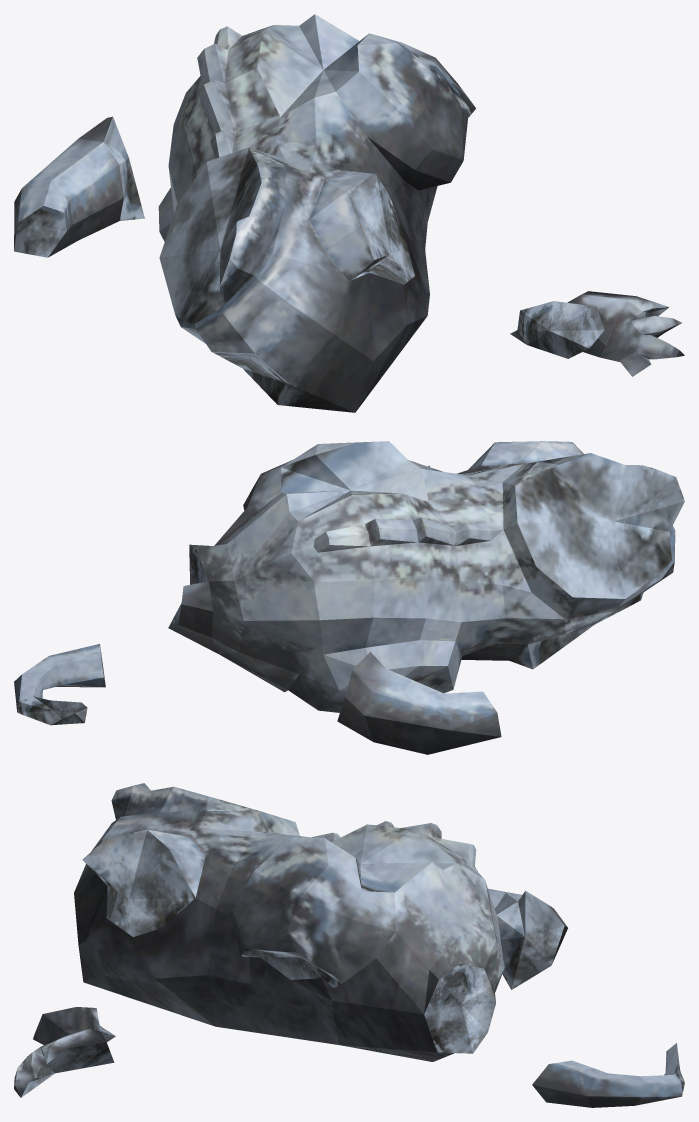
The model's file is ShiZi_Snow_01.FBX.
The picture shows the model from 3 angles, top to bottom: view 1: azimuth 30°, elevation 25°; view 2: azimuth 150°, elevation 25°; view 3: azimuth 270°, elevation 25°; orthographic projection. The views are drawn at different scales.
Visible parts, largest first — view 1: Object003; view 2: Object003; view 3: Object003.
Boxes of the visible parts, left/top/right/bottom form: Object003: left=14, top=14, right=684, bottom=412; Object003: left=14, top=441, right=684, bottom=754; Object003: left=14, top=783, right=684, bottom=1107.
Size of the model in its own units: 193 by 95.33 by 269.
